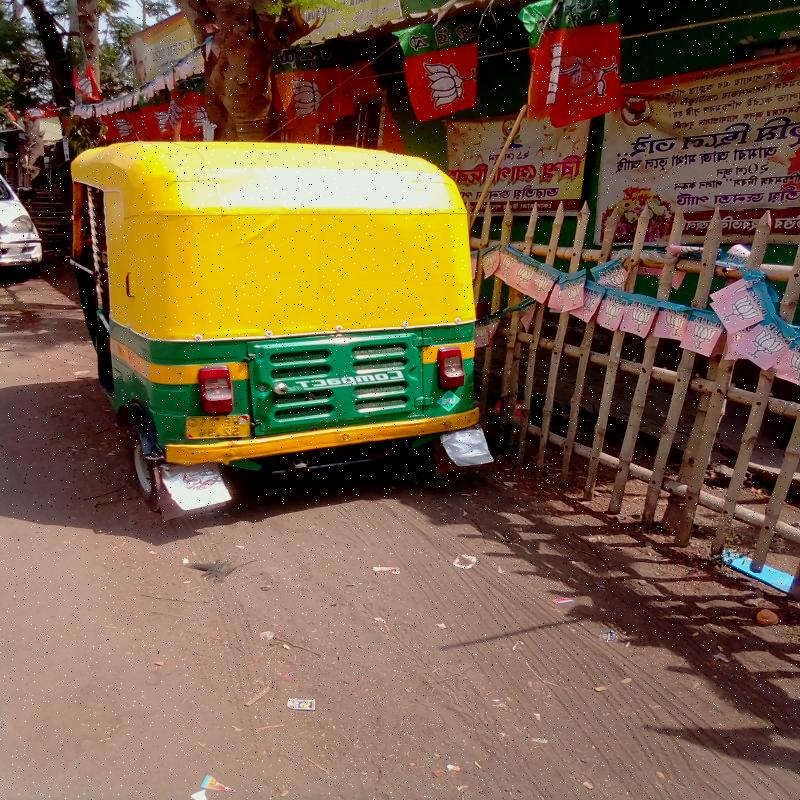auto: (42, 142, 470, 532)
